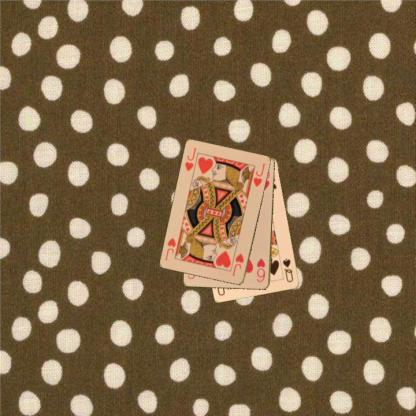6h: (255, 256, 266, 283)
Jh: (182, 146, 198, 172), (230, 252, 245, 278)
Qs: (280, 256, 295, 284)
